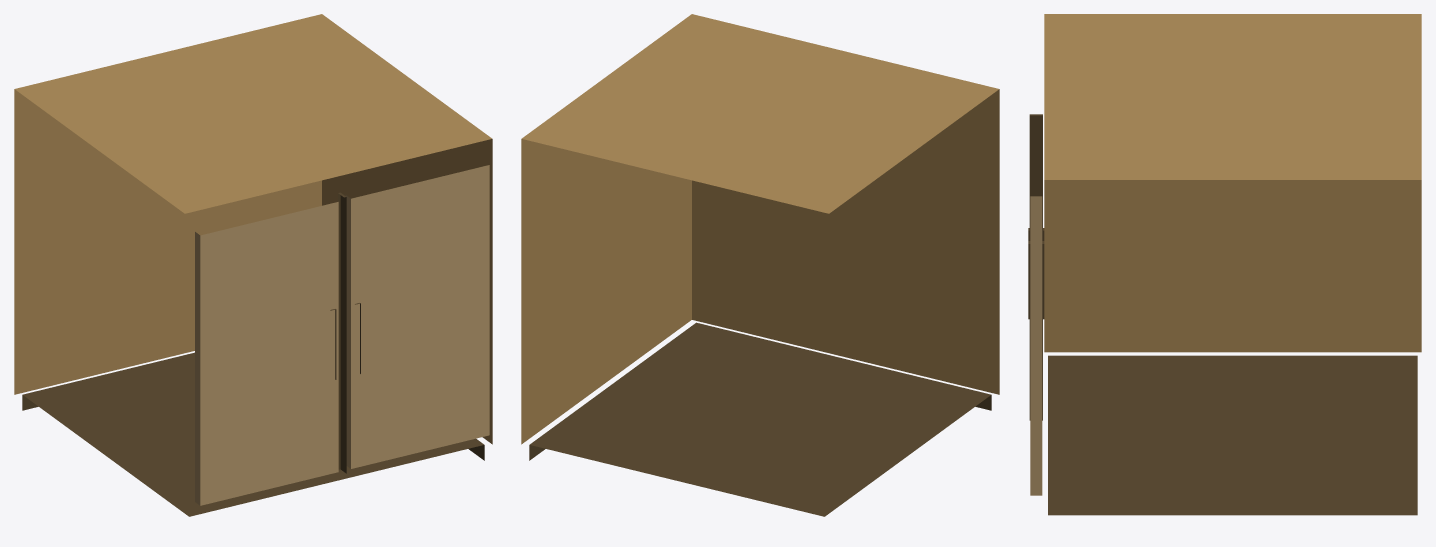
Rendered from Wardrobe-oak.glb.
3 renders of one model, left to right at view 1: azimuth 30°, elevation 25°; view 2: azimuth 150°, elevation 25°; view 3: azimuth 270°, elevation 25°, orthographic. The views are drawn at different scales.
Visible parts, largest first — view 1: Wardrobe; view 2: Wardrobe; view 3: Wardrobe.
Boxes of the visible parts, x1,y1,x2,y2 form: Wardrobe: [14, 14, 492, 516]; Wardrobe: [521, 14, 999, 516]; Wardrobe: [1028, 14, 1421, 515].
Bounding box in the file's own units: 1 × 1 × 1.
